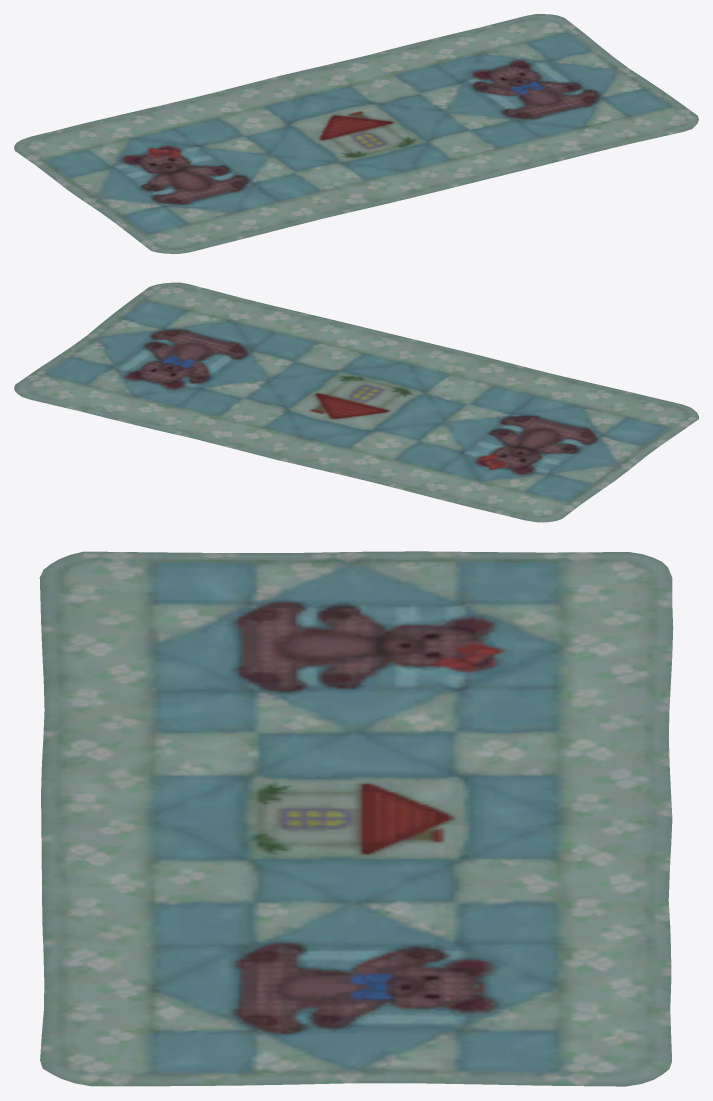
Rendered from RugRectMomS00.glb.
3 views of the same model, one above another, from view 1: azimuth 30°, elevation 25°; view 2: azimuth 150°, elevation 25°; view 3: azimuth 270°, elevation 25° (orthographic). The views are drawn at different scales.
Parts seen in each view (by area): view 1: Main__mMain; view 2: Main__mMain; view 3: Main__mMain.
Boxes of the visible parts, x1,y1,x2,y2 form: Main__mMain: (14,14,698,253); Main__mMain: (14,282,698,522); Main__mMain: (39,551,673,1086).
Bounding box in the file's own units: 19.97 × 0.03 × 9.99.
1 material, 1 textured.
